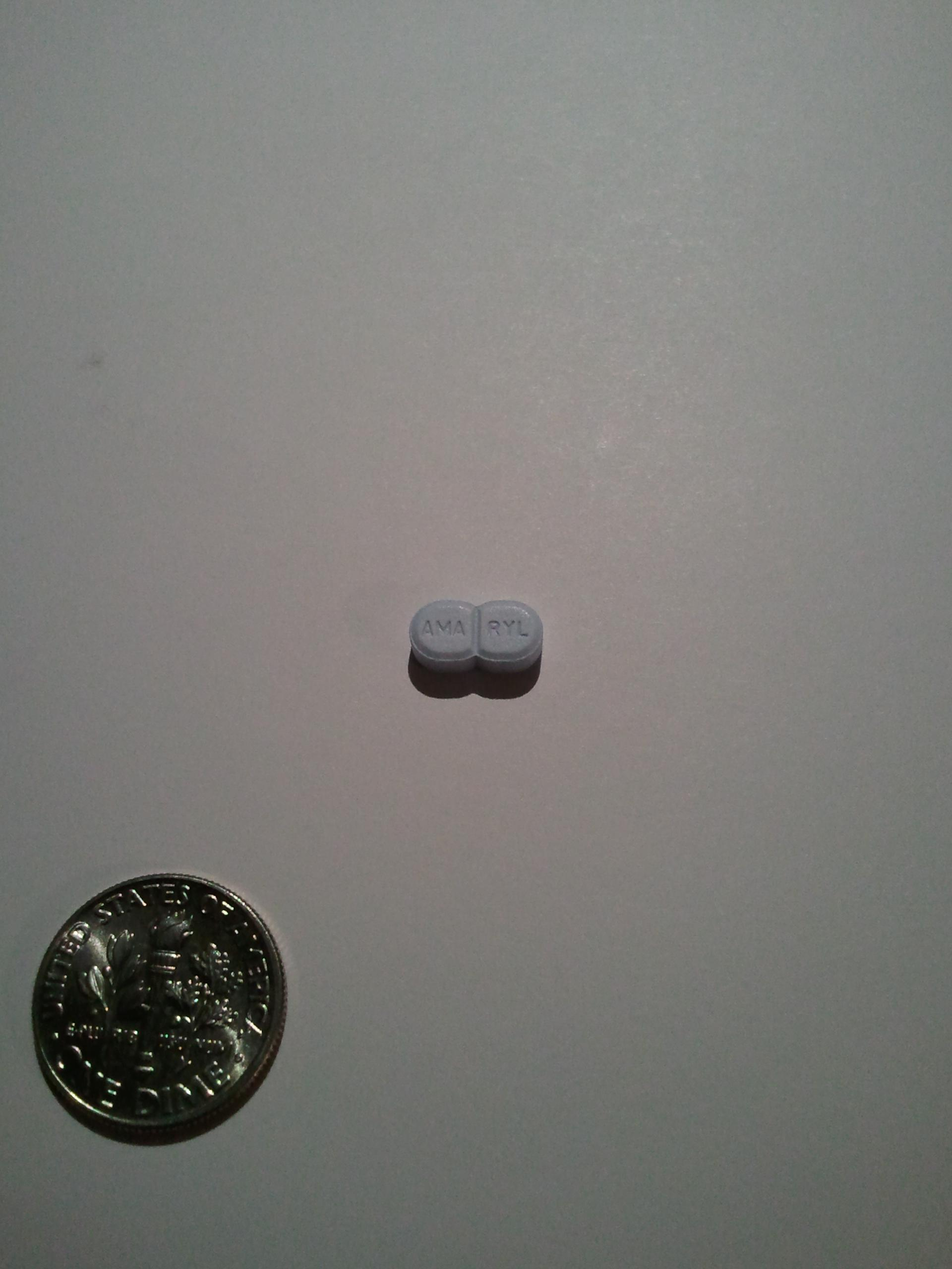Pill: (384, 590, 561, 697)
